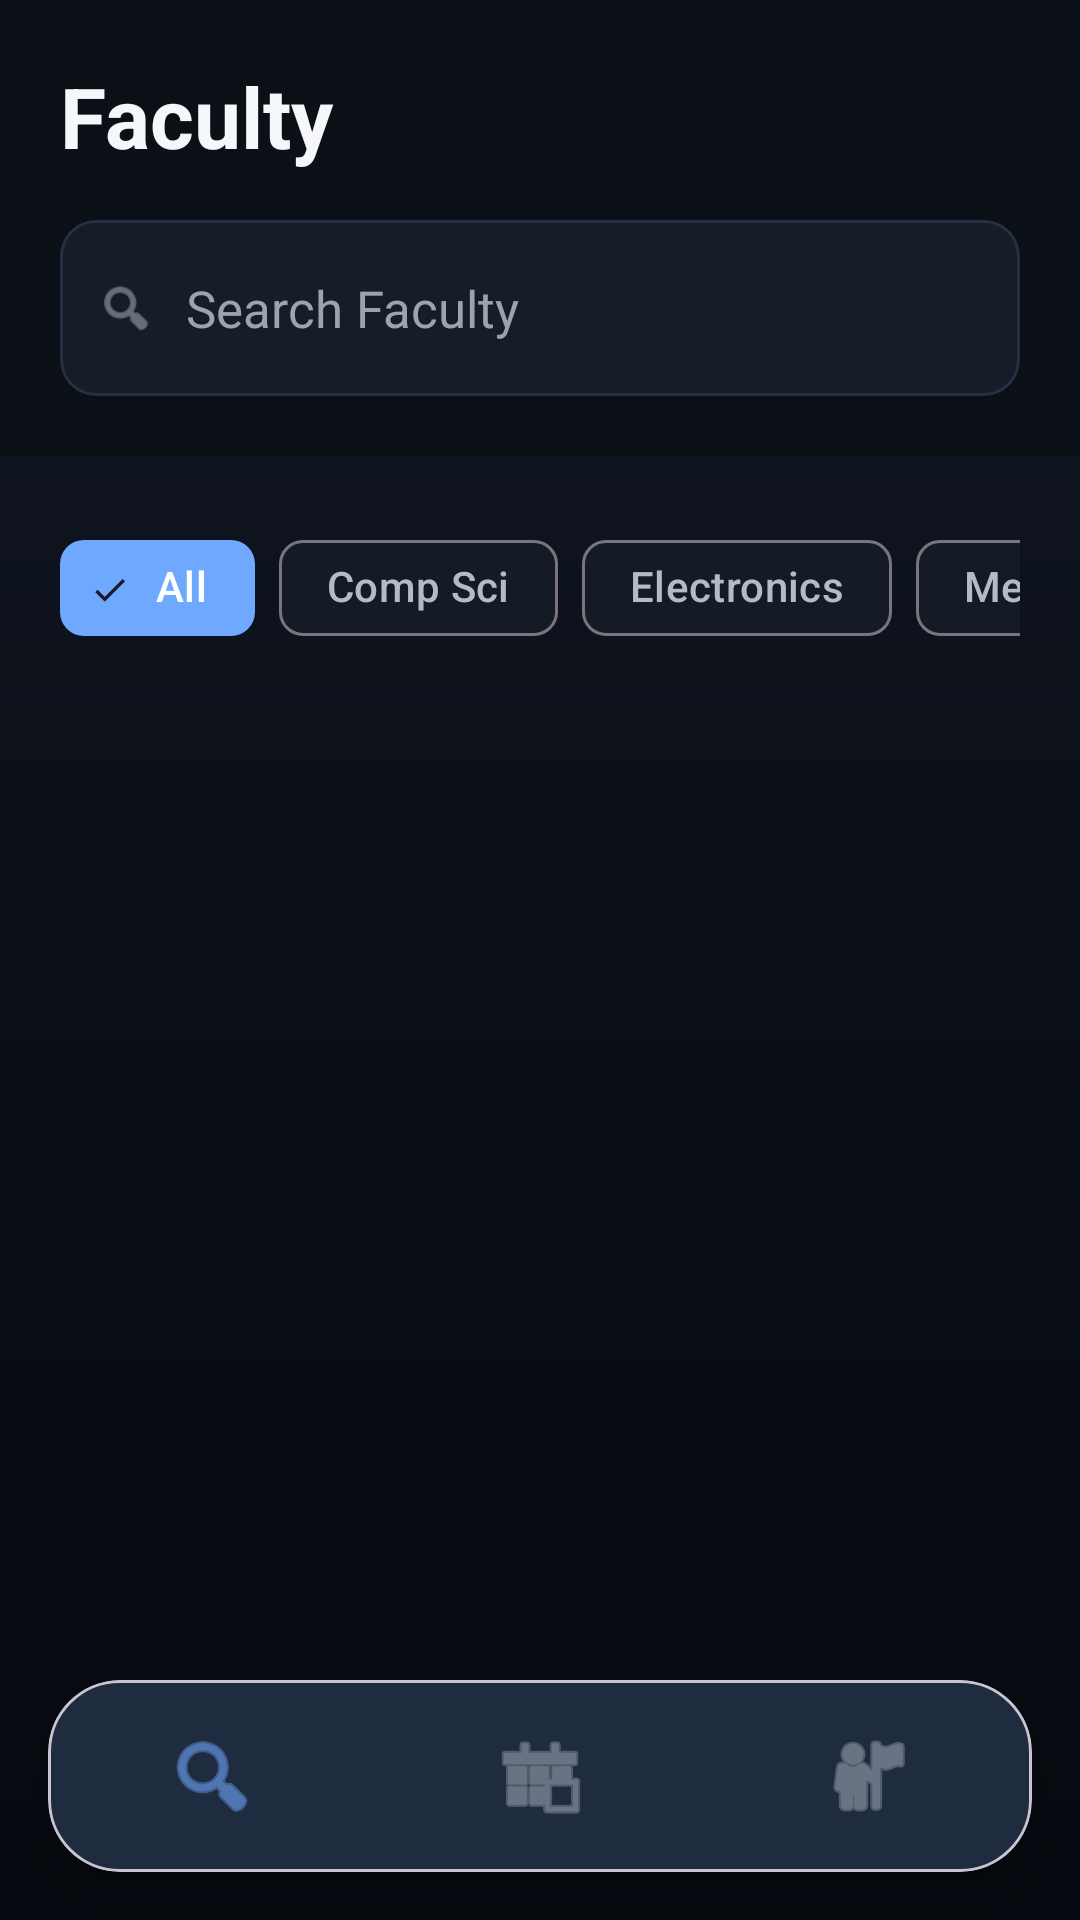

Point at icon controls on the screen. Image size 1080x1920, points as [x,y].
My Bookings: [540,1776]
Profile: [868,1776]
